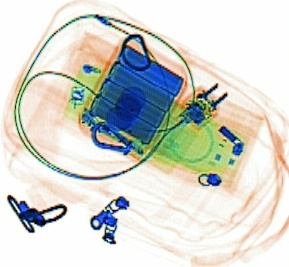powerbank: (79, 37, 186, 148)
